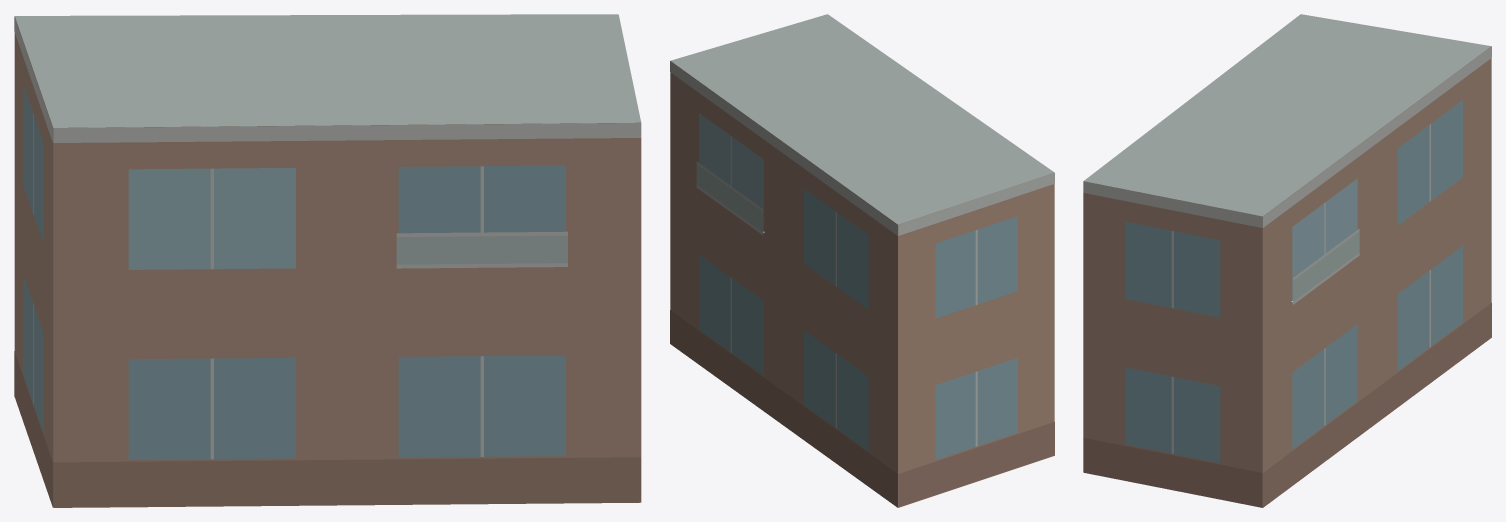
The model's file is survey-upis-32894947.glb.
The picture shows the model from 3 angles, left to right: view 1: azimuth 30°, elevation 25°; view 2: azimuth 150°, elevation 25°; view 3: azimuth 270°, elevation 25°; orthographic projection. The views are drawn at different scales.
Parts seen in each view (by area): view 1: survey-upis-32894947.tmp; view 2: survey-upis-32894947.tmp; view 3: survey-upis-32894947.tmp.
Boxes of the visible parts, <box> form: survey-upis-32894947.tmp: <box>14,14,641,507</box>; survey-upis-32894947.tmp: <box>670,14,1054,507</box>; survey-upis-32894947.tmp: <box>1083,14,1491,507</box>.
Bounding box in the file's own units: 9.1 × 6.1 × 7.75.
